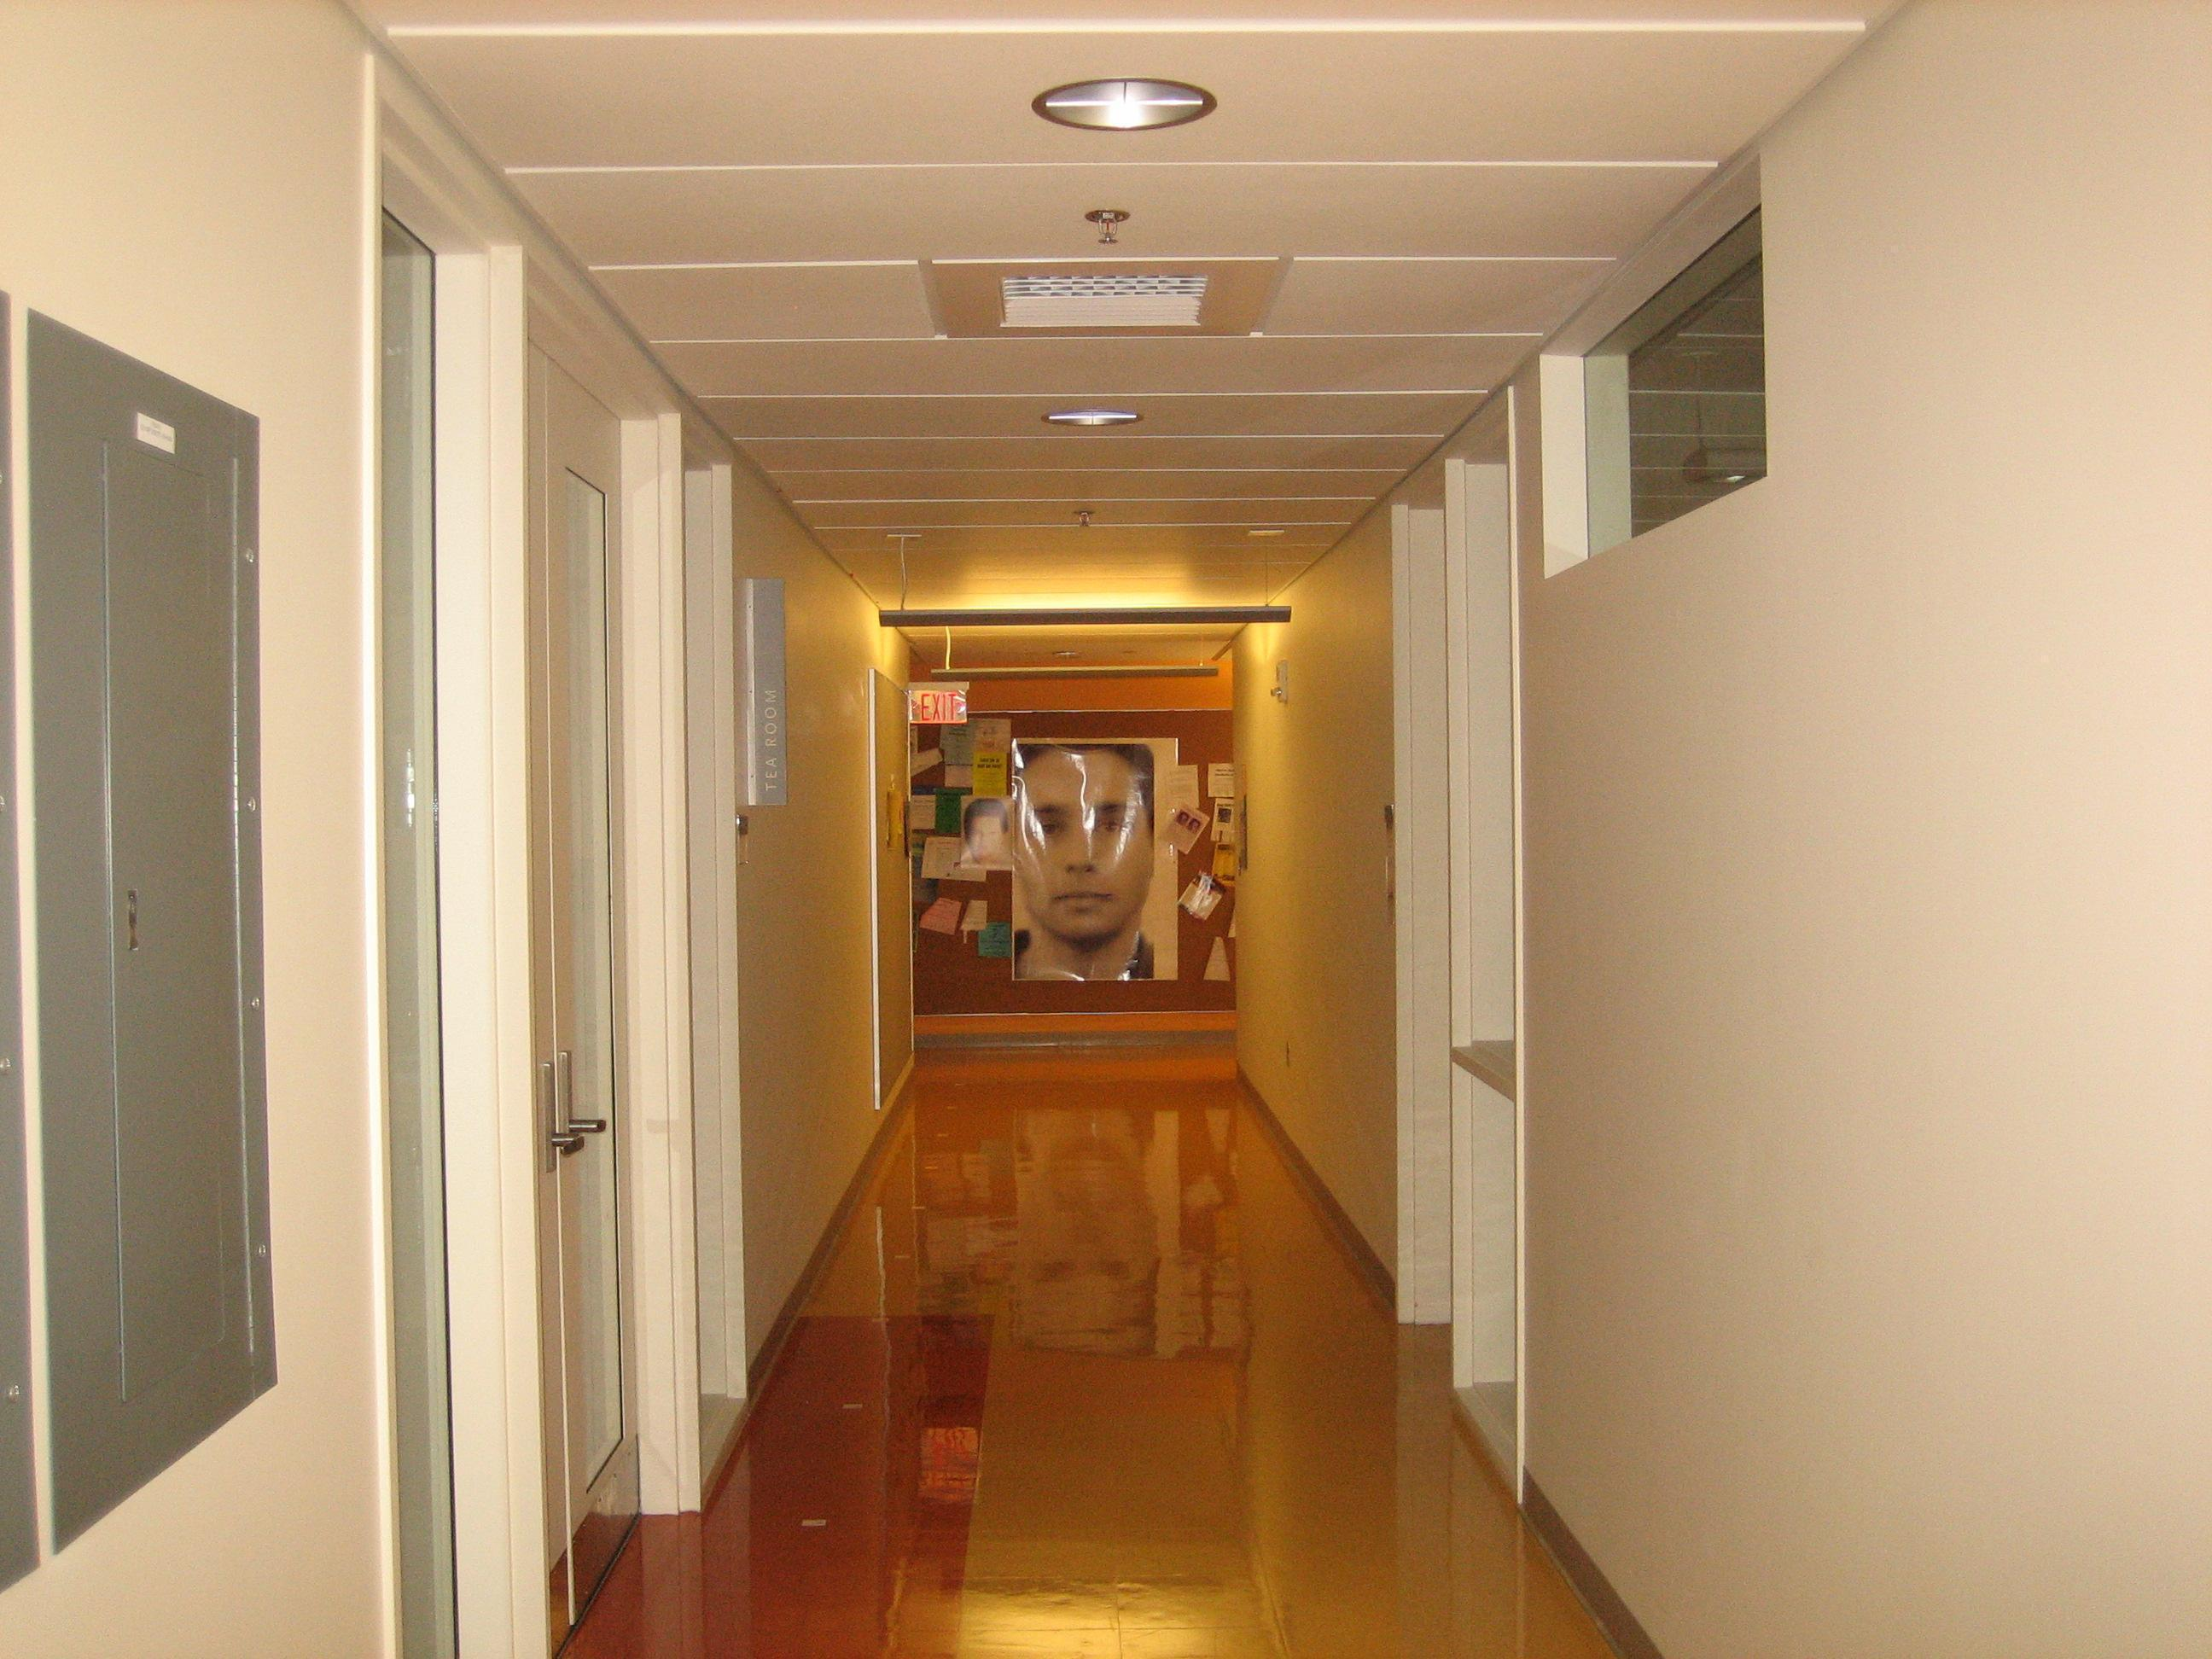Puerta: (392, 216, 519, 1656), (536, 383, 657, 1574)
Ventana: (1402, 498, 1517, 1441)
